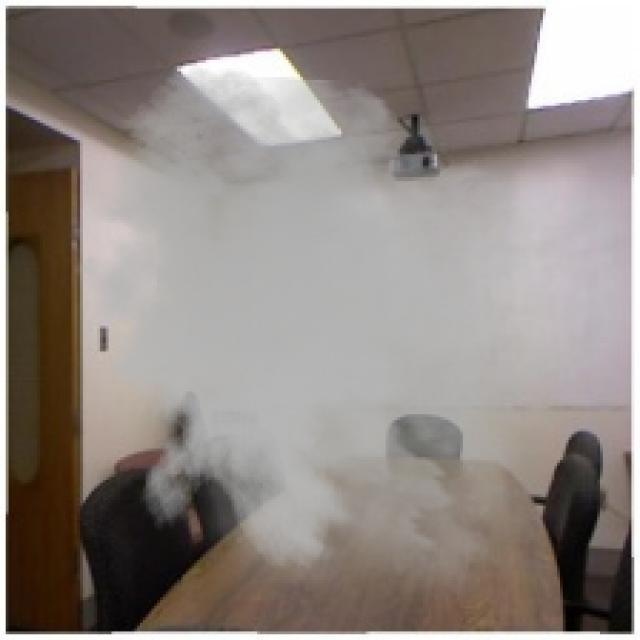Smoke: (57, 65, 583, 620)
